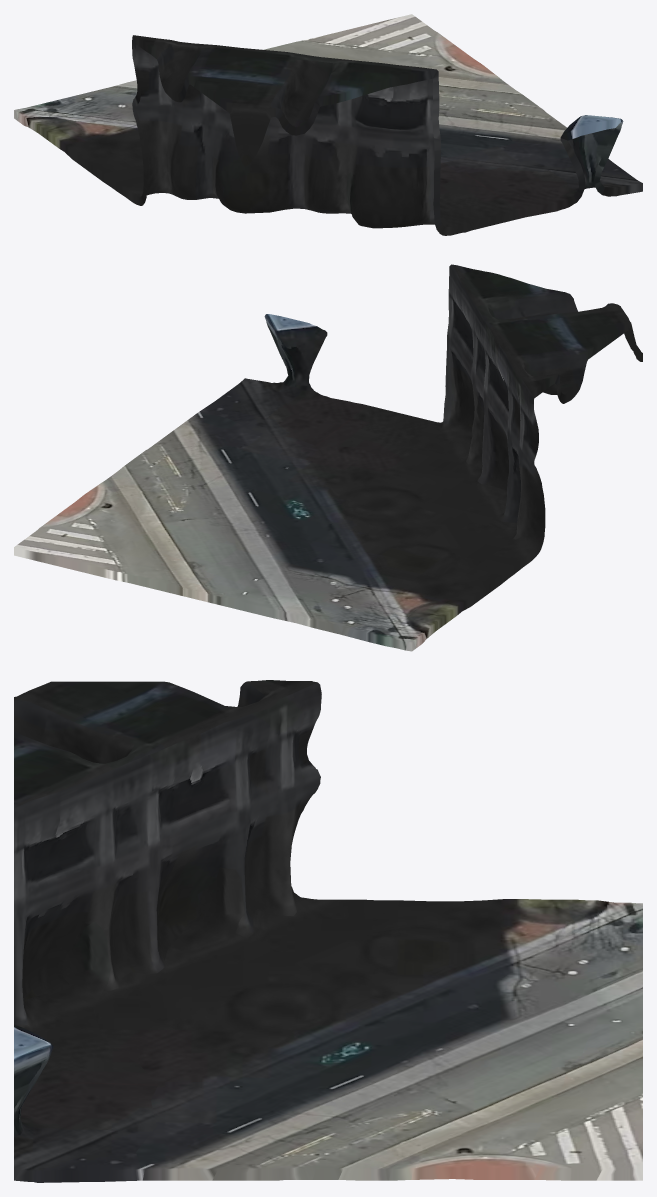
Rendered from z20-167783-405228-h0-yup-uvflip-v3-world.glb.
3 views of the same model, one above another, from view 1: azimuth 30°, elevation 25°; view 2: azimuth 150°, elevation 25°; view 3: azimuth 270°, elevation 25° (orthographic). The views are drawn at different scales.
Bounding box in the file's own units: 30.16 × 12.76 × 30.32.
1 material, 1 textured.
